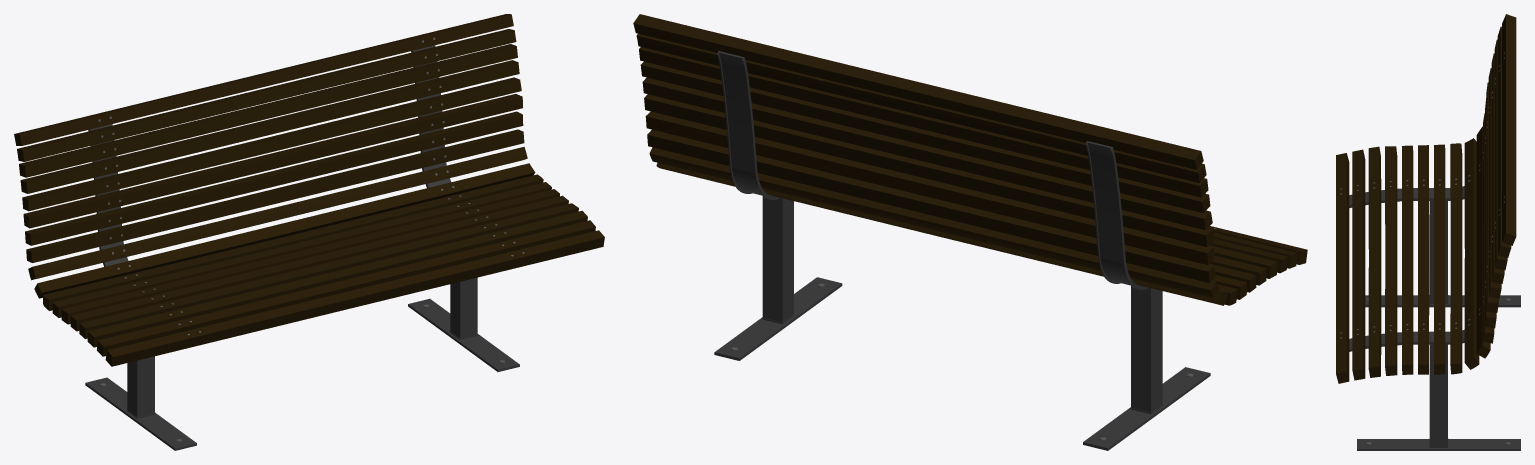
The model's file is park_bench.fbx.
3 renders of one model, left to right at view 1: azimuth 30°, elevation 25°; view 2: azimuth 150°, elevation 25°; view 3: azimuth 270°, elevation 25°, orthographic. The views are drawn at different scales.
Visible parts, largest first — view 1: wood, metal; view 2: wood, metal; view 3: wood, metal, screws.
Boxes of the visible parts, x1=… form: wood: x1=14, y1=14, x2=604, y2=366; metal: x1=85, y1=45, x2=519, y2=450; wood: x1=633, y1=14, x2=1307, y2=305; metal: x1=714, y1=51, x2=1210, y2=450; wood: x1=1336, y1=14, x2=1516, y2=383; metal: x1=1349, y1=186, x2=1520, y2=450; screws: x1=1340, y1=52, x2=1510, y2=444.
Size of the model in its own units: 226 by 120 by 80.32.
